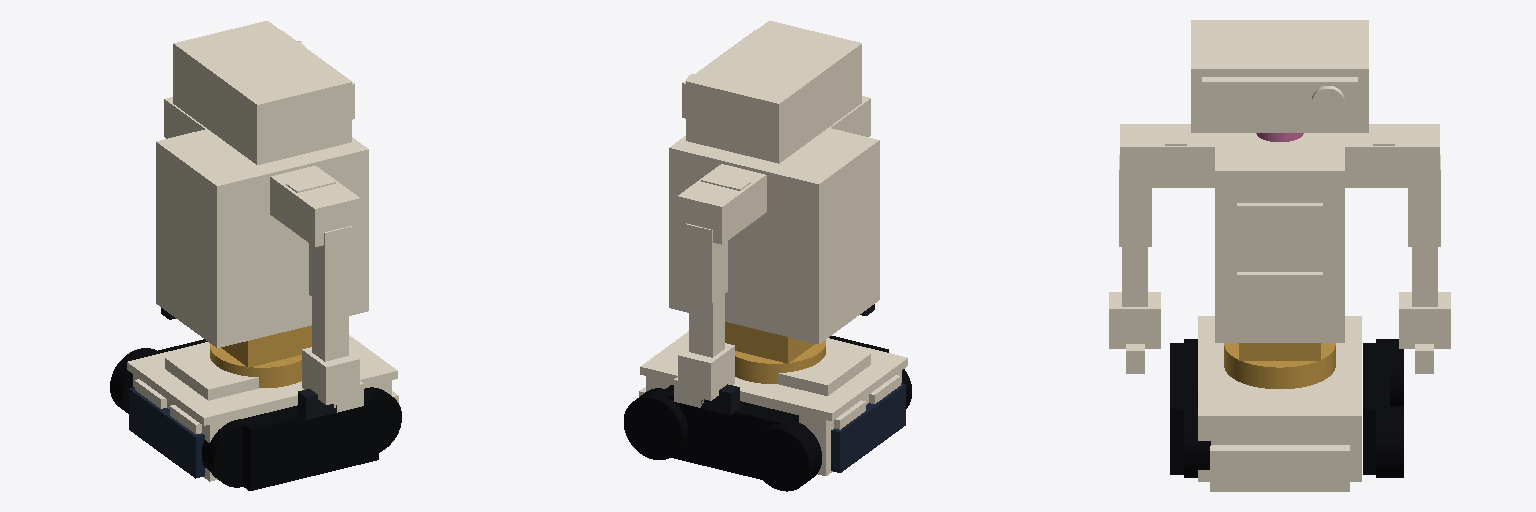
robot.urdf — galahad:
<?xml version="1.0"?>
<!-- Exported by Polykrom; units: m, kg, rad -->
<robot name="galahad">
  <link name="base_link">
    <inertial>
      <origin xyz="-0.014803559683337164 5.498723287641139e-19 0.028541766053046577" rpy="0 0 0"/>
      <mass value="0.4038111999999999"/>
      <inertia ixx="2.6178691825712243e-4" ixy="-7.300872063294368e-21" ixz="1.8889714683804695e-5" iyy="4.883571596682911e-4" iyz="4.65342919199653e-21" izz="6.332994552778354e-4"/>
    </inertial>
    <visual>
      <origin xyz="0 0 0" rpy="0 0 0"/>
      <geometry><mesh filename="galahad-base.stl"/></geometry>
      <material name="base_link_color"><color rgba="0.929411768913269 0.8941176533699036 0.8196078538894653 1"/></material>
    </visual>
    <collision>
      <origin xyz="0 0 0" rpy="0 0 0"/>
      <geometry><mesh filename="galahad-base.stl"/></geometry>
    </collision>
  </link>
  <link name="rear_panel">
    <inertial>
      <origin xyz="-0.06299999999999999 -4.909553046007711e-18 0.017999999999999995" rpy="0 0 0"/>
      <mass value="0.004742399999999997"/>
      <inertia ixx="2.5498304e-6" ixy="-1.1641532182693512e-22" ixz="1.4901161193847657e-21" iyy="2.8138240000001564e-7" iyz="2.0954757928848264e-22" izz="2.296902400000014e-6"/>
    </inertial>
    <visual>
      <origin xyz="0 0 0" rpy="0 0 0"/>
      <geometry><mesh filename="galahad-rear_panel.stl"/></geometry>
      <material name="rear_panel_color"><color rgba="0.16470588743686676 0.20000000298023224 0.27450981736183167 1"/></material>
    </visual>
    <collision>
      <origin xyz="0 0 0" rpy="0 0 0"/>
      <geometry><mesh filename="galahad-rear_panel.stl"/></geometry>
    </collision>
  </link>
  <link name="tread_L">
    <inertial>
      <origin xyz="1.4210854715202006e-16 0.04250000000000064 0.0029868706632391806" rpy="0 0 0"/>
      <mass value="0.017889910575127364"/>
      <inertia ixx="2.099683528081824e-5" ixy="1.983571537547267e-10" ixz="1.8596649169921873e-19" iyy="2.6723442072826335e-6" iyz="-9.25536224917331e-20" izz="2.246121794013947e-5"/>
    </inertial>
    <visual>
      <origin xyz="0.0195 0.0425 -0.052000000000000005" rpy="1.5707963267948966 0 -1.5707963267948966"/>
      <geometry><mesh filename="galahad-tread_L.stl"/></geometry>
      <material name="tread_L_color"><color rgba="0.0784313753247261 0.08235294371843338 0.0941176488995552 1"/></material>
    </visual>
    <collision>
      <origin xyz="0.0195 0.0425 -0.052000000000000005" rpy="1.5707963267948966 0 -1.5707963267948966"/>
      <geometry><mesh filename="galahad-tread_L.stl"/></geometry>
    </collision>
  </link>
  <link name="tread_R">
    <inertial>
      <origin xyz="2.1316282072803006e-17 0.04250000000000026 0.002986870663239856" rpy="0 0 0"/>
      <mass value="0.017889910575127514"/>
      <inertia ixx="2.0996835280819033e-5" ixy="1.9835715384860754e-10" ixz="2.5033950805664058e-20" iyy="2.672344207282673e-6" iyz="-5.666993020413266e-20" izz="2.2461217940140016e-5"/>
    </inertial>
    <visual>
      <origin xyz="0.0195 0.0425 0.052000000000000005" rpy="1.5707963267948966 0 -1.5707963267948966"/>
      <geometry><mesh filename="galahad-tread_R.stl"/></geometry>
      <material name="tread_R_color"><color rgba="0.0784313753247261 0.08235294371843338 0.0941176488995552 1"/></material>
    </visual>
    <collision>
      <origin xyz="0.0195 0.0425 0.052000000000000005" rpy="1.5707963267948966 0 -1.5707963267948966"/>
      <geometry><mesh filename="galahad-tread_R.stl"/></geometry>
    </collision>
  </link>
  <link name="waist">
    <inertial>
      <origin xyz="-7.287569506481156e-18 -1.7056714334742097e-18 0.007760045530499834" rpy="0 0 0"/>
      <mass value="0.06646229045602617"/>
      <inertia ixx="2.0597229686421967e-5" ixy="-4.769576444800809e-10" ixz="-5.2462771290834453e-20" iyy="2.0597572062645504e-5" iyz="-4.602560966388627e-21" izz="2.6353424140666185e-5"/>
    </inertial>
    <visual>
      <origin xyz="0 0 -0.051500000000000004" rpy="0 0 -1.5707963267948966"/>
      <geometry><mesh filename="galahad-waist.stl"/></geometry>
      <material name="waist_color"><color rgba="0.7882353067398071 0.6274510025978088 0.3137255012989044 1"/></material>
    </visual>
    <collision>
      <origin xyz="0 0 -0.051500000000000004" rpy="0 0 -1.5707963267948966"/>
      <geometry><mesh filename="galahad-waist.stl"/></geometry>
    </collision>
  </link>
  <link name="torso">
    <inertial>
      <origin xyz="-0.06345104759269206 -0.002603223935244563 3.5816977510788134e-19" rpy="0 0 0"/>
      <mass value="0.3006512000000002"/>
      <inertia ixx="3.9595509584043745e-4" ixy="-6.698598008589324e-6" ixz="1.5524888990535382e-20" iyy="3.7153556767138807e-4" iyz="1.978131227649141e-21" izz="5.289426069784923e-4"/>
    </inertial>
    <visual>
      <origin xyz="0.07 0 0" rpy="1.5707963267948966 0 -1.5707963267948966"/>
      <geometry><mesh filename="galahad-torso.stl"/></geometry>
      <material name="torso_color"><color rgba="0.929411768913269 0.8941176533699036 0.8196078538894653 1"/></material>
    </visual>
    <collision>
      <origin xyz="0.07 0 0" rpy="1.5707963267948966 0 -1.5707963267948966"/>
      <geometry><mesh filename="galahad-torso.stl"/></geometry>
    </collision>
  </link>
  <link name="neck">
    <inertial>
      <origin xyz="-2.112298549264712e-17 -1.745161247845762e-17 -5.996980689815245e-14" rpy="0 0 0"/>
      <mass value="0.009585333376661466"/>
      <inertia ixx="5.614055434165674e-7" ixy="5.268100540171245e-12" ixz="-2.2815484896897625e-20" iyy="5.614017617969776e-7" iyz="-4.540461233658695e-20" izz="8.096864145629806e-7"/>
    </inertial>
    <visual>
      <origin xyz="0 0 -0.191" rpy="0 0 -1.5707963267948966"/>
      <geometry><mesh filename="galahad-neck.stl"/></geometry>
    </visual>
    <collision>
      <origin xyz="0 0 -0.191" rpy="0 0 -1.5707963267948966"/>
      <geometry><mesh filename="galahad-neck.stl"/></geometry>
    </collision>
  </link>
  <link name="shoulder_L">
    <inertial>
      <origin xyz="0.013287671232876708 -1.171343135405949e-18 2.336030912088001e-17" rpy="0 0 0"/>
      <mass value="0.05010720000000001"/>
      <inertia ixx="6.070979200000298e-6" ixy="-1.4308453048473067e-21" ixz="-1.722507215462216e-20" iyy="1.1984058191781284e-5" iyz="-3.318806799749534e-21" izz="1.3096026191780994e-5"/>
    </inertial>
    <visual>
      <origin xyz="-0.046 0 -0.17" rpy="0 0 -1.5707963267948966"/>
      <geometry><mesh filename="galahad-shoulder_L.stl"/></geometry>
      <material name="shoulder_L_color"><color rgba="0.929411768913269 0.8941176533699036 0.8196078538894653 1"/></material>
    </visual>
    <collision>
      <origin xyz="-0.046 0 -0.17" rpy="0 0 -1.5707963267948966"/>
      <geometry><mesh filename="galahad-shoulder_L.stl"/></geometry>
    </collision>
  </link>
  <link name="shoulder_R">
    <inertial>
      <origin xyz="-0.013287671232876724 8.518859166588723e-19 7.008092736264e-17" rpy="0 0 0"/>
      <mass value="0.05010719999999999"/>
      <inertia ixx="6.070979199998754e-6" ixy="-1.250162346450162e-21" ixz="-2.269764978610847e-19" iyy="1.1984058191779553e-5" iyz="5.975986520449357e-22" izz="1.30960261917808e-5"/>
    </inertial>
    <visual>
      <origin xyz="0.046 0 -0.17" rpy="0 0 -1.5707963267948966"/>
      <geometry><mesh filename="galahad-shoulder_R.stl"/></geometry>
      <material name="shoulder_R_color"><color rgba="0.929411768913269 0.8941176533699036 0.8196078538894653 1"/></material>
    </visual>
    <collision>
      <origin xyz="0.046 0 -0.17" rpy="0 0 -1.5707963267948966"/>
      <geometry><mesh filename="galahad-shoulder_R.stl"/></geometry>
    </collision>
  </link>
  <link name="head">
    <inertial>
      <origin xyz="-0.017227283484584893 -0.002610964436817978 2.0271301472082098e-4" rpy="0 0 0"/>
      <mass value="0.09788638632585543"/>
      <inertia ixx="1.1107725313276045e-4" ixy="-7.086449909540353e-7" ixz="5.5017910874618065e-8" iyy="8.51525269488403e-5" iyz="7.121405509389468e-7" izz="4.8388870144773236e-5"/>
    </inertial>
    <visual>
      <origin xyz="0.2 0 0" rpy="1.5707963267948966 0 -1.5707963267948966"/>
      <geometry><mesh filename="galahad-head.stl"/></geometry>
      <material name="head_color"><color rgba="0.929411768913269 0.8941176533699036 0.8196078538894653 1"/></material>
    </visual>
    <collision>
      <origin xyz="0.2 0 0" rpy="1.5707963267948966 0 -1.5707963267948966"/>
      <geometry><mesh filename="galahad-head.stl"/></geometry>
    </collision>
  </link>
  <link name="upperarm_L">
    <inertial>
      <origin xyz="0.022999999999999715 2.766400059069565e-18 9.947598300641403e-17" rpy="0 0 0"/>
      <mass value="0.04471199999999993"/>
      <inertia ixx="2.4144479999994636e-6" ixy="-5.114998202770982e-21" ixz="-9.834766387939454e-19" iyy="9.091439999996781e-6" iyz="2.3137545213103406e-21" izz="9.091439999997318e-6"/>
    </inertial>
    <visual>
      <origin xyz="0.166 0 -0.078" rpy="1.5707963267948966 0 -1.5707963267948966"/>
      <geometry><mesh filename="galahad-upperarm_L.stl"/></geometry>
      <material name="upperarm_L_color"><color rgba="0.929411768913269 0.8941176533699036 0.8196078538894653 1"/></material>
    </visual>
    <collision>
      <origin xyz="0.166 0 -0.078" rpy="1.5707963267948966 0 -1.5707963267948966"/>
      <geometry><mesh filename="galahad-upperarm_L.stl"/></geometry>
    </collision>
  </link>
  <link name="upperarm_R">
    <inertial>
      <origin xyz="0.02299999999999997 -2.766400059069564e-18 0" rpy="0 0 0"/>
      <mass value="0.04471199999999996"/>
      <inertia ixx="2.414448000000134e-6" ixy="-3.266904968768355e-21" ixz="0" iyy="9.091440000000134e-6" iyz="1.6152625903487204e-21" izz="9.09144e-6"/>
    </inertial>
    <visual>
      <origin xyz="0.166 0 0.078" rpy="1.5707963267948966 0 -1.5707963267948966"/>
      <geometry><mesh filename="galahad-upperarm_R.stl"/></geometry>
      <material name="upperarm_R_color"><color rgba="0.929411768913269 0.8941176533699036 0.8196078538894653 1"/></material>
    </visual>
    <collision>
      <origin xyz="0.166 0 0.078" rpy="1.5707963267948966 0 -1.5707963267948966"/>
      <geometry><mesh filename="galahad-upperarm_R.stl"/></geometry>
    </collision>
  </link>
  <link name="forearm_L">
    <inertial>
      <origin xyz="0.0179999999999999 1.2030353198054614e-18 0" rpy="0 0 0"/>
      <mass value="0.030643199999999978"/>
      <inertia ixx="1.1542272000001695e-6" ixy="-1.1059455573558844e-21" ixz="2.831220626831054e-20" iyy="3.8099711999996604e-6" iyz="1.548323780298233e-21" izz="3.96318719999949e-6"/>
    </inertial>
    <visual>
      <origin xyz="0.12 0 -0.078" rpy="1.5707963267948966 0 -1.5707963267948966"/>
      <geometry><mesh filename="galahad-forearm_L.stl"/></geometry>
      <material name="forearm_L_color"><color rgba="0.929411768913269 0.8941176533699036 0.8196078538894653 1"/></material>
    </visual>
    <collision>
      <origin xyz="0.12 0 -0.078" rpy="1.5707963267948966 0 -1.5707963267948966"/>
      <geometry><mesh filename="galahad-forearm_L.stl"/></geometry>
    </collision>
  </link>
  <link name="forearm_R">
    <inertial>
      <origin xyz="0.0179999999999999 -2.2556912246352387e-18 0" rpy="0 0 0"/>
      <mass value="0.030643199999999995"/>
      <inertia ixx="1.1542272000000564e-6" ixy="3.068998921662575e-21" ixz="2.831220626831054e-19" iyy="3.80997119999932e-6" iyz="4.9491063691675655e-21" izz="3.963187199999263e-6"/>
    </inertial>
    <visual>
      <origin xyz="0.12 0 0.078" rpy="1.5707963267948966 0 -1.5707963267948966"/>
      <geometry><mesh filename="galahad-forearm_R.stl"/></geometry>
      <material name="forearm_R_color"><color rgba="0.929411768913269 0.8941176533699036 0.8196078538894653 1"/></material>
    </visual>
    <collision>
      <origin xyz="0.12 0 0.078" rpy="1.5707963267948966 0 -1.5707963267948966"/>
      <geometry><mesh filename="galahad-forearm_R.stl"/></geometry>
    </collision>
  </link>
  <link name="hand_L">
    <inertial>
      <origin xyz="0.014547770700636994 -0.0014331210191082776 -6.7886248639500064e-18" rpy="0 0 0"/>
      <mass value="0.03516800000000002"/>
      <inertia ixx="3.73905603397013e-6" ixy="6.779923566878917e-7" ixz="6.654155203348892e-20" iyy="4.694493078556425e-6" iyz="1.4603704289728955e-21" izz="4.4766637791935105e-6"/>
    </inertial>
    <visual>
      <origin xyz="0.084 0 -0.078" rpy="1.5707963267948966 0 -1.5707963267948966"/>
      <geometry><mesh filename="galahad-hand_L.stl"/></geometry>
      <material name="hand_L_color"><color rgba="0.929411768913269 0.8941176533699036 0.8196078538894653 1"/></material>
    </visual>
    <collision>
      <origin xyz="0.084 0 -0.078" rpy="1.5707963267948966 0 -1.5707963267948966"/>
      <geometry><mesh filename="galahad-hand_L.stl"/></geometry>
    </collision>
  </link>
  <link name="hand_R">
    <inertial>
      <origin xyz="0.014547770700636922 -0.0014331210191082806 4.5257499093e-18" rpy="0 0 0"/>
      <mass value="0.035167999999999984"/>
      <inertia ixx="3.7390560339702877e-6" ixy="6.779923566878991e-7" ixz="5.309502623832907e-21" iyy="4.694493078556203e-6" iyz="2.7832391621414443e-21" izz="4.4766637791931335e-6"/>
    </inertial>
    <visual>
      <origin xyz="0.084 0 0.078" rpy="1.5707963267948966 0 -1.5707963267948966"/>
      <geometry><mesh filename="galahad-hand_R.stl"/></geometry>
      <material name="hand_R_color"><color rgba="0.929411768913269 0.8941176533699036 0.8196078538894653 1"/></material>
    </visual>
    <collision>
      <origin xyz="0.084 0 0.078" rpy="1.5707963267948966 0 -1.5707963267948966"/>
      <geometry><mesh filename="galahad-hand_R.stl"/></geometry>
    </collision>
  </link>
  <link name="jaw_L">
    <inertial>
      <origin xyz="-0.004000000000000092 2.842170943040401e-17 -0.008999999999999985" rpy="0 0 0"/>
      <mass value="0.009520000000000004"/>
      <inertia ixx="3.966666666665884e-7" ixy="5.699694156646728e-20" ixz="7.12461769580841e-21" iyy="4.7282666666673405e-7" iyz="-1.5832483768463133e-21" izz="2.3482666666665185e-7"/>
    </inertial>
    <visual>
      <origin xyz="-0.06 0.078 0" rpy="0 -1.5707963267948966 -3.141592653589793"/>
      <geometry><mesh filename="galahad-jaw_L.stl"/></geometry>
      <material name="jaw_L_color"><color rgba="0.13333334028720856 0.14509804546833038 0.16862745583057404 1"/></material>
    </visual>
    <collision>
      <origin xyz="-0.06 0.078 0" rpy="0 -1.5707963267948966 -3.141592653589793"/>
      <geometry><mesh filename="galahad-jaw_L.stl"/></geometry>
    </collision>
  </link>
  <link name="jaw_R">
    <inertial>
      <origin xyz="-0.003999999999999978 2.842170943040401e-17 -0.009000000000000005" rpy="0 0 0"/>
      <mass value="0.009519999999999994"/>
      <inertia ixx="3.966666666666483e-7" ixy="-6.332993507385253e-21" ixz="0" iyy="4.728266666666799e-7" iyz="-1.5832483768463133e-21" izz="2.348266666666645e-7"/>
    </inertial>
    <visual>
      <origin xyz="-0.06 -0.078 0" rpy="0 -1.5707963267948966 -3.141592653589793"/>
      <geometry><mesh filename="galahad-jaw_R.stl"/></geometry>
      <material name="jaw_R_color"><color rgba="0.13333334028720856 0.14509804546833038 0.16862745583057404 1"/></material>
    </visual>
    <collision>
      <origin xyz="-0.06 -0.078 0" rpy="0 -1.5707963267948966 -3.141592653589793"/>
      <geometry><mesh filename="galahad-jaw_R.stl"/></geometry>
    </collision>
  </link>
  <joint name="rear_panel_fixed" type="fixed">
    <parent link="base_link"/>
    <child link="rear_panel"/>
    <origin xyz="0 0 0" rpy="0 0 0"/>
  </joint>
  <joint name="tread_L_drive" type="continuous">
    <parent link="base_link"/>
    <child link="tread_L"/>
    <origin xyz="0.0425 0.052000000000000005 0.0195" rpy="0 1.5707963267948966 1.5707963267948966"/>
    <axis xyz="0 0 1"/>
    <limit effort="1" velocity="3"/>
  </joint>
  <joint name="tread_R_drive" type="continuous">
    <parent link="base_link"/>
    <child link="tread_R"/>
    <origin xyz="0.0425 -0.052000000000000005 0.0195" rpy="0 1.5707963267948966 1.5707963267948966"/>
    <axis xyz="0 0 1"/>
    <limit effort="1" velocity="3"/>
  </joint>
  <joint name="waist_yaw" type="revolute">
    <parent link="base_link"/>
    <child link="waist"/>
    <origin xyz="0 0 0.051500000000000004" rpy="0 0 1.5707963267948966"/>
    <axis xyz="0 0 1"/>
    <limit lower="-1.5707963267948966" upper="1.5707963267948966" effort="1" velocity="3"/>
  </joint>
  <joint name="waist_pitch" type="revolute">
    <parent link="waist"/>
    <child link="torso"/>
    <origin xyz="0 0 0.0185" rpy="0 1.5707963267948966 0"/>
    <axis xyz="0 0 1"/>
    <limit lower="-0.3490658503988659" upper="0.3490658503988659" effort="1" velocity="3"/>
  </joint>
  <joint name="head_pan" type="revolute">
    <parent link="torso"/>
    <child link="neck"/>
    <origin xyz="-0.121 0 0" rpy="0 -1.5707963267948966 0"/>
    <axis xyz="0 0 1"/>
    <limit lower="-1.3962634015954636" upper="1.3962634015954636" effort="1" velocity="3"/>
  </joint>
  <joint name="shoulder_yaw_L" type="revolute">
    <parent link="torso"/>
    <child link="shoulder_L"/>
    <origin xyz="-0.1 0 0.046" rpy="0 -1.5707963267948966 0"/>
    <axis xyz="0 0 1"/>
    <limit lower="-1.3962634015954636" upper="1.3962634015954636" effort="1" velocity="3"/>
  </joint>
  <joint name="shoulder_yaw_R" type="revolute">
    <parent link="torso"/>
    <child link="shoulder_R"/>
    <origin xyz="-0.1 0 -0.046" rpy="0 -1.5707963267948966 0"/>
    <axis xyz="0 0 1"/>
    <limit lower="-1.3962634015954636" upper="1.3962634015954636" effort="1" velocity="3"/>
  </joint>
  <joint name="head_tilt" type="revolute">
    <parent link="neck"/>
    <child link="head"/>
    <origin xyz="0 0 0.009000000000000001" rpy="0 1.5707963267948966 0"/>
    <axis xyz="0 0 1"/>
    <limit lower="-0.4363323129985824" upper="0.6108652381980153" effort="1" velocity="3"/>
  </joint>
  <joint name="shoulder_pitch_L" type="revolute">
    <parent link="shoulder_L"/>
    <child link="upperarm_L"/>
    <origin xyz="0.032 0 -0.004" rpy="0 1.5707963267948966 0"/>
    <axis xyz="0 0 1"/>
    <limit lower="-1.7453292519943295" upper="1.6580627893946132" effort="1" velocity="3"/>
  </joint>
  <joint name="shoulder_pitch_R" type="revolute">
    <parent link="shoulder_R"/>
    <child link="upperarm_R"/>
    <origin xyz="-0.032 0 -0.004" rpy="0 1.5707963267948966 0"/>
    <axis xyz="0 0 1"/>
    <limit lower="-1.7453292519943295" upper="1.6580627893946132" effort="1" velocity="3"/>
  </joint>
  <joint name="elbow_L" type="revolute">
    <parent link="upperarm_L"/>
    <child link="forearm_L"/>
    <origin xyz="0.046 0 0" rpy="0 0 0"/>
    <axis xyz="0 0 1"/>
    <limit lower="-2.0943951023931953" upper="1.5707963267948966" effort="1" velocity="3"/>
  </joint>
  <joint name="elbow_R" type="revolute">
    <parent link="upperarm_R"/>
    <child link="forearm_R"/>
    <origin xyz="0.046 0 0" rpy="0 0 0"/>
    <axis xyz="0 0 1"/>
    <limit lower="-2.0943951023931953" upper="1.5707963267948966" effort="1" velocity="3"/>
  </joint>
  <joint name="wrist_L" type="revolute">
    <parent link="forearm_L"/>
    <child link="hand_L"/>
    <origin xyz="0.036000000000000004 0 0" rpy="0 0 0"/>
    <axis xyz="0 0 1"/>
    <limit lower="-1.5707963267948966" upper="1.5707963267948966" effort="1" velocity="3"/>
  </joint>
  <joint name="wrist_R" type="revolute">
    <parent link="forearm_R"/>
    <child link="hand_R"/>
    <origin xyz="0.036000000000000004 0 0" rpy="0 0 0"/>
    <axis xyz="0 0 1"/>
    <limit lower="-1.5707963267948966" upper="1.5707963267948966" effort="1" velocity="3"/>
  </joint>
  <joint name="gripper_L" type="revolute">
    <parent link="hand_L"/>
    <child link="jaw_L"/>
    <origin xyz="0.024 0 0" rpy="-1.5707963267948966 0 3.141592653589793"/>
    <axis xyz="0 0 1"/>
    <limit lower="0" upper="0.7853981633974483" effort="1" velocity="3"/>
  </joint>
  <joint name="gripper_R" type="revolute">
    <parent link="hand_R"/>
    <child link="jaw_R"/>
    <origin xyz="0.024 0 0" rpy="-1.5707963267948966 0 3.141592653589793"/>
    <axis xyz="0 0 1"/>
    <limit lower="0" upper="0.7853981633974483" effort="1" velocity="3"/>
  </joint>
</robot>

--- Render facts (derived) ---
3 views of the same robot in one strip: view 1: azimuth 30°, elevation 25°; view 2: azimuth 150°, elevation 25°; view 3: azimuth 270°, elevation 25° (orthographic).
Model galahad with 18 links and 17 joints (14 revolute, 2 continuous, 1 fixed), rooted at base_link, posed every joint at zero.
Links seen in each view (by area): view 1: torso, head, tread_R, base_link, shoulder_R, waist, rear_panel, upperarm_R, hand_R, forearm_R, tread_L, shoulder_L (+1 smaller); view 2: torso, head, tread_L, base_link, shoulder_L, waist, rear_panel, upperarm_L, hand_L, forearm_L, shoulder_R, jaw_L; view 3: torso, base_link, head, shoulder_L, shoulder_R, tread_L, waist, tread_R, hand_L, hand_R, upperarm_L, upperarm_R (+2 smaller).
Boxes of the visible links, x1,y1,x2,y2 form: torso: (156,129,368,347); head: (173,21,354,164); tread_R: (202,387,401,490); base_link: (127,335,398,481); shoulder_R: (270,166,360,246); waist: (210,325,311,387); rear_panel: (129,387,204,478); upperarm_R: (309,226,351,305); hand_R: (302,347,363,412); forearm_R: (312,297,348,361); tread_L: (110,339,207,413); shoulder_L: (164,97,206,138); torso: (669,128,879,343); head: (682,21,861,163); tread_L: (624,385,821,491); base_link: (639,331,907,475); shoulder_L: (677,164,766,244); waist: (725,322,825,383); rear_panel: (831,383,905,472); upperarm_L: (685,223,727,302); hand_L: (674,343,734,407); forearm_L: (689,294,724,357); shoulder_R: (829,96,870,136); jaw_L: (701,384,739,414); torso: (1215,133,1344,342); base_link: (1198,316,1361,491); head: (1191,20,1368,132); shoulder_L: (1345,124,1439,187); shoulder_R: (1120,124,1214,187); tread_L: (1363,339,1403,477); waist: (1224,343,1335,388); tread_R: (1170,339,1210,477); hand_L: (1399,292,1450,373); hand_R: (1109,292,1160,373); upperarm_L: (1408,155,1440,246); upperarm_R: (1119,155,1151,246).
Bounding box of the posed robot: 0.134 × 0.184 × 0.236 m (x, y, z).
18 mesh visuals loaded from 18 distinct referenced files (18 binary STL).
